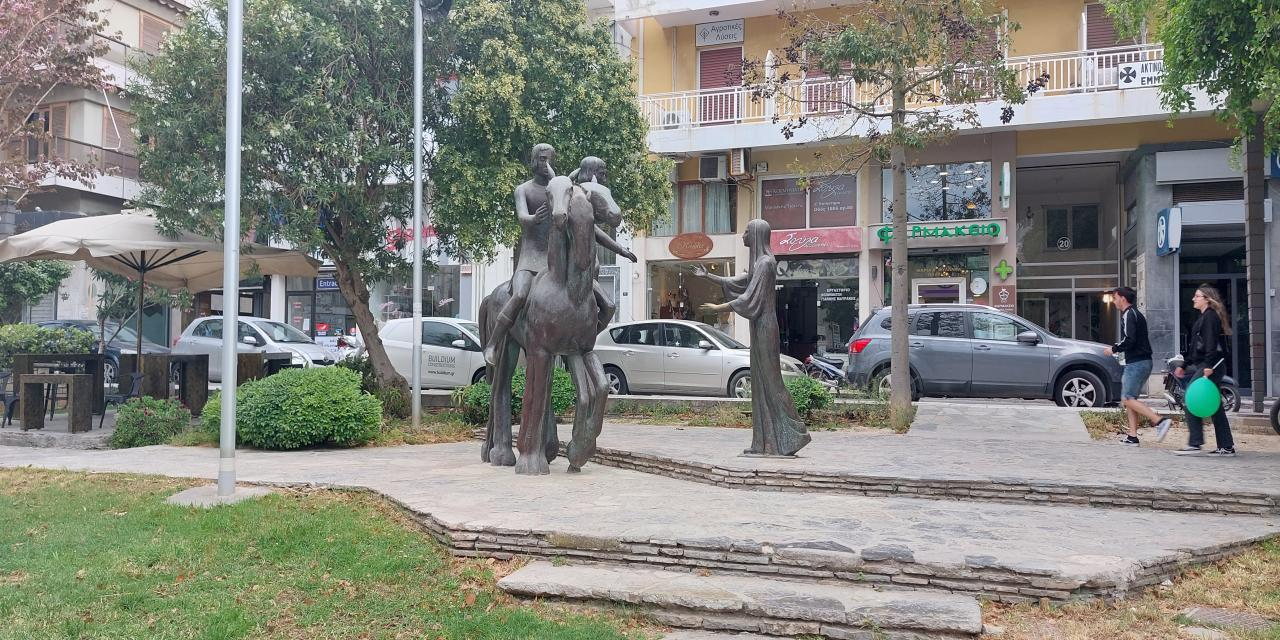Aretousa: (479, 145, 814, 475)
